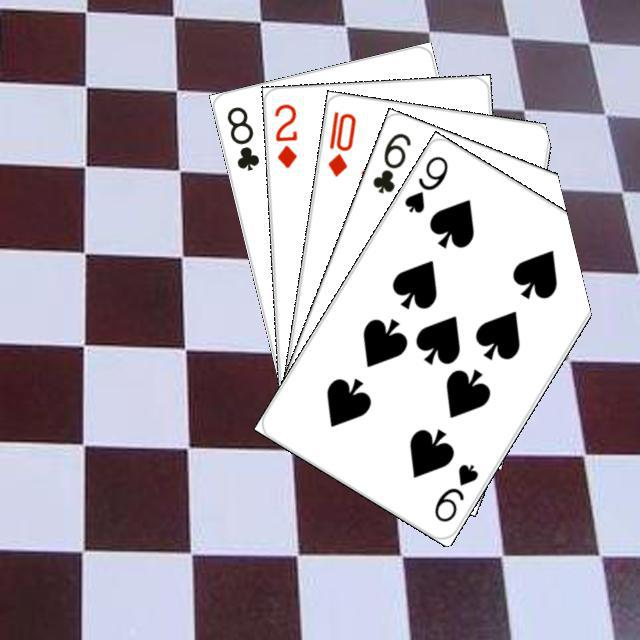10d: (322, 106, 358, 178)
2d: (269, 99, 299, 170)
6c: (367, 127, 413, 196)
8c: (221, 101, 261, 173)
9s: (399, 150, 450, 215), (429, 459, 480, 524)
